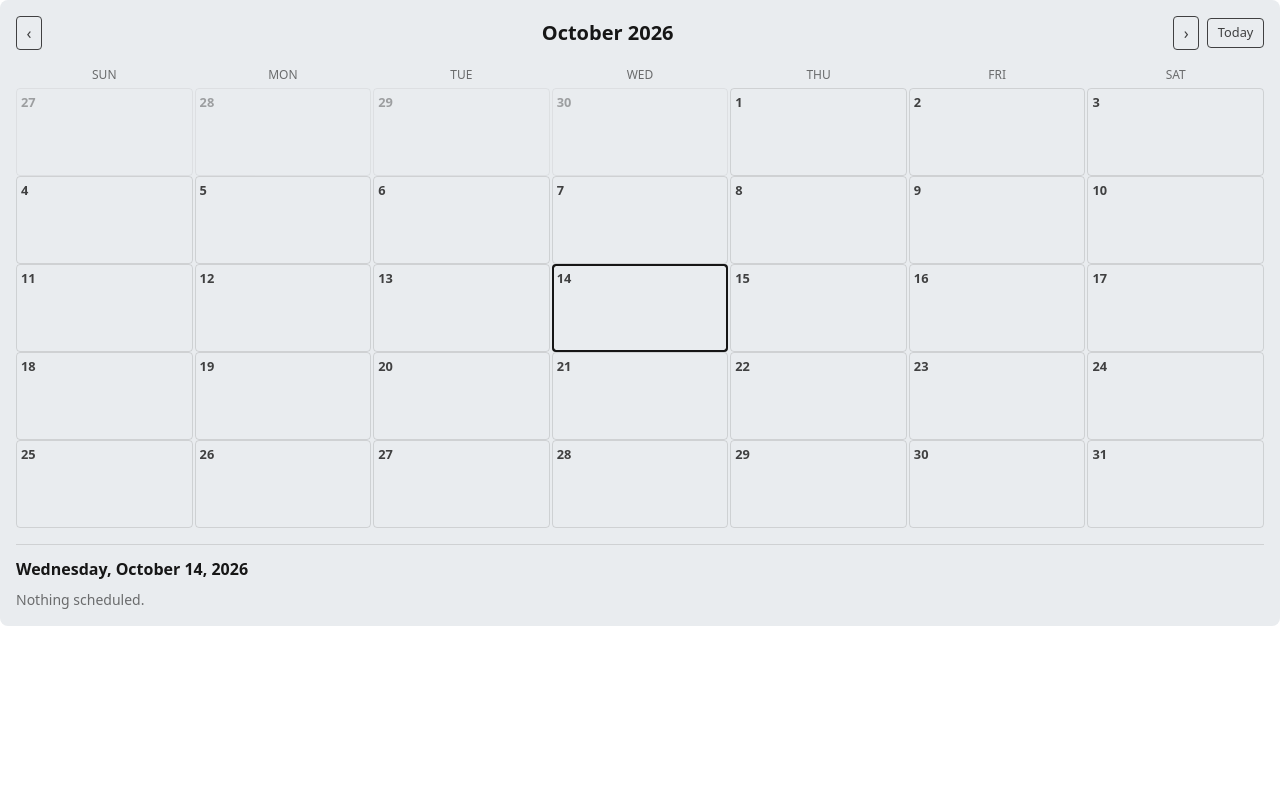
Test: paging › steps to the next month and re-asks for that grid
Click the button named "Next month" at (1186, 33), box [1173, 16, 1199, 50]
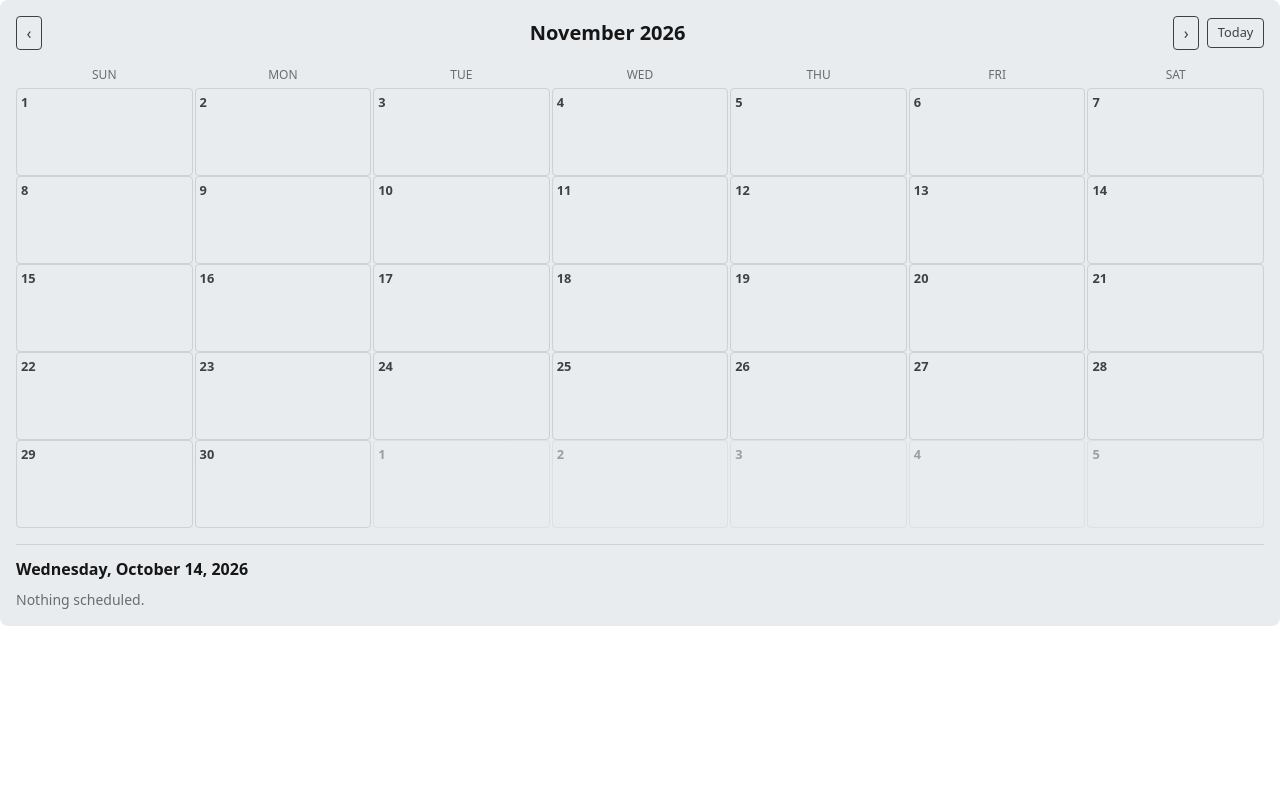
Expected: the heading with test id "month-title" reads "November 2026", [530, 19, 685, 46]
